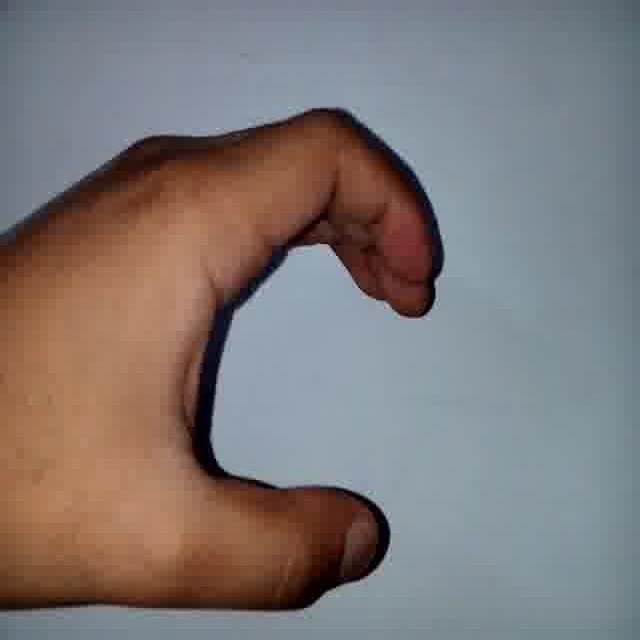Alphabet-C: (7, 63, 432, 620)
